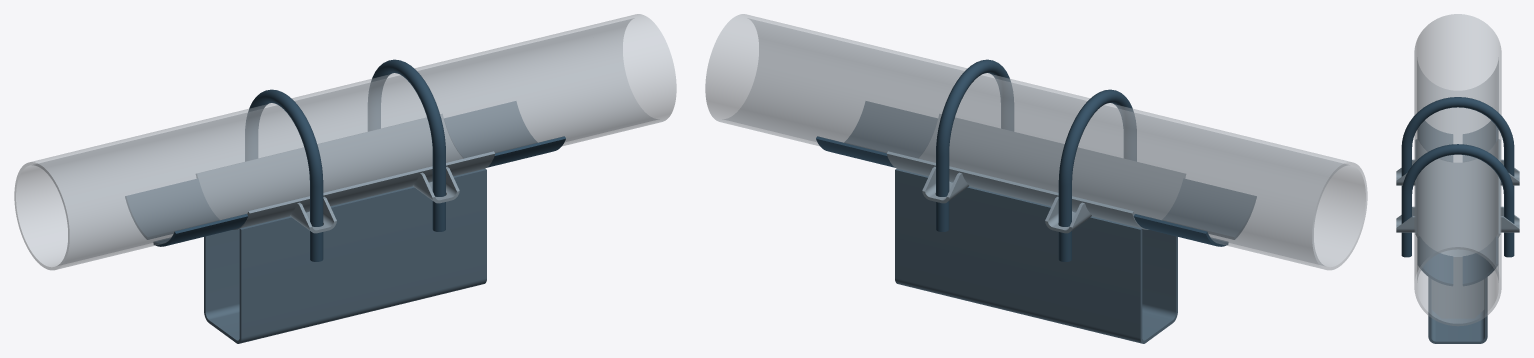
File: TS-670.00.00-13-opora-dn133-H150.glb
3 renders of one model, left to right at view 1: azimuth 30°, elevation 25°; view 2: azimuth 150°, elevation 25°; view 3: azimuth 270°, elevation 25°, orthographic. The views are drawn at different scales.
Visible parts, largest first — view 1: truba, skoba_1, podushka_0, upor_-1_1, homut_-1, homut_1, upor_1_1, upor_-1_-1, upor_1_-1, ushko_5, ushko_7; view 2: truba, skoba_1, podushka_0, upor_-1_-1, homut_-1, homut_1, upor_1_-1, upor_-1_1, upor_1_1, ushko_4, ushko_6; view 3: truba, podushka_0, homut_1, homut_-1, rebro_3, skoba_1, upor_1_1, upor_1_-1, upor_-1_1, upor_-1_-1, ushko_4, ushko_5 (+2 smaller).
Part boxes in pixels (bbox=[...]): truba: bbox=[14, 14, 676, 270]; skoba_1: bbox=[204, 168, 486, 343]; podushka_0: bbox=[196, 114, 495, 229]; upor_-1_1: bbox=[125, 179, 218, 239]; homut_-1: bbox=[245, 89, 323, 261]; homut_1: bbox=[368, 59, 445, 231]; upor_1_1: bbox=[444, 101, 536, 157]; upor_-1_-1: bbox=[153, 214, 248, 246]; upor_1_-1: bbox=[487, 136, 565, 167]; ushko_5: bbox=[413, 166, 459, 203]; ushko_7: bbox=[290, 196, 336, 233]; truba: bbox=[705, 14, 1367, 270]; skoba_1: bbox=[895, 168, 1177, 343]; podushka_0: bbox=[886, 114, 1185, 229]; upor_-1_-1: bbox=[1163, 179, 1256, 239]; homut_-1: bbox=[1058, 89, 1136, 261]; homut_1: bbox=[936, 59, 1013, 231]; upor_1_-1: bbox=[845, 101, 937, 157]; upor_-1_1: bbox=[1133, 214, 1228, 246]; upor_1_1: bbox=[816, 136, 894, 167]; ushko_4: bbox=[922, 166, 968, 203]; ushko_6: bbox=[1045, 196, 1091, 233]; truba: bbox=[1414, 14, 1501, 326]; podushka_0: bbox=[1415, 139, 1500, 259]; homut_1: bbox=[1401, 144, 1514, 257]; homut_-1: bbox=[1401, 97, 1514, 191]; rebro_3: bbox=[1431, 259, 1484, 318]; skoba_1: bbox=[1428, 277, 1487, 343]; upor_1_1: bbox=[1462, 236, 1497, 286]; upor_1_-1: bbox=[1418, 236, 1453, 286]; upor_-1_1: bbox=[1463, 121, 1497, 161]; upor_-1_-1: bbox=[1418, 121, 1452, 161]; ushko_4: bbox=[1500, 206, 1519, 232]; ushko_5: bbox=[1396, 206, 1415, 232].
Bounding box in the file's own units: 840 × 295 × 188.
